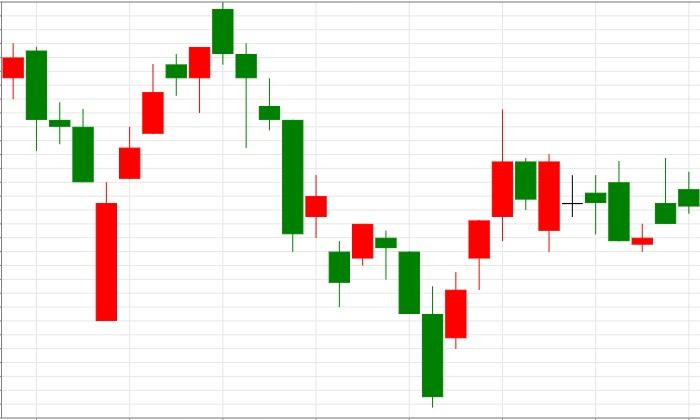three_black_crows_fall: (95, 2, 281, 321), (328, 223, 444, 408)
three_white_soldiers_rise: (1, 42, 165, 322), (374, 110, 514, 407)
